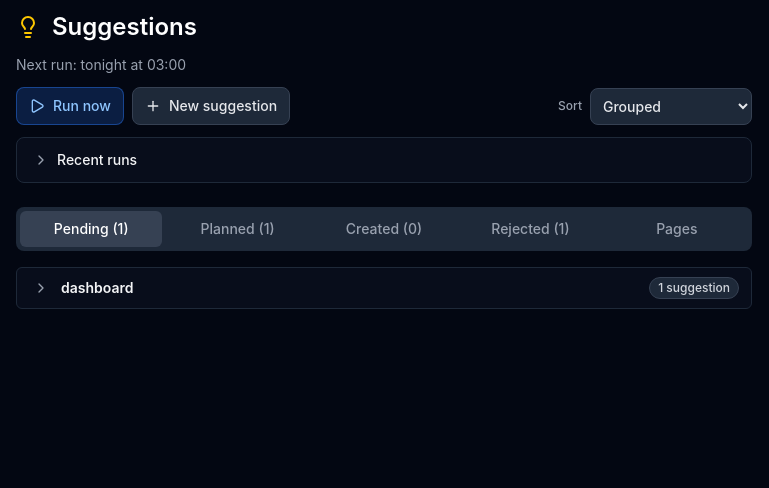
Test: Suggestions – data fetch › switching tabs swaps which cards are visible
Click the button with test id "suggestion-group-header-dashboard": click(97, 288) [16, 267, 752, 309]
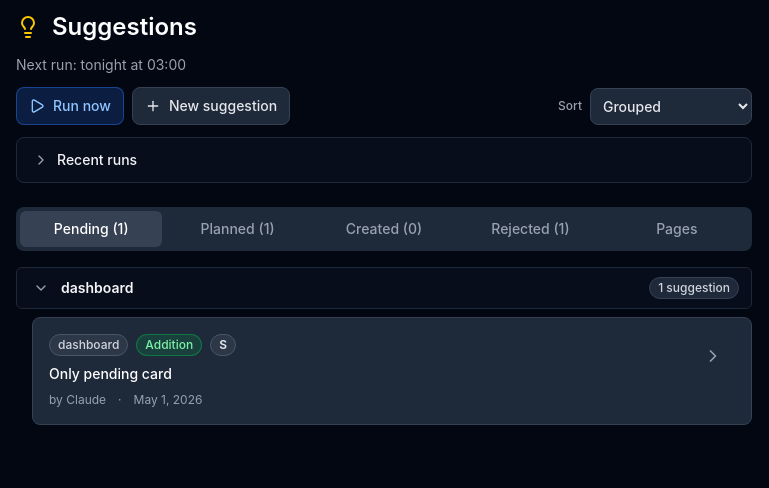
expect the text "Only planned card" is not shown: met
expect the heading "Only pending card" is shown: met, box [49, 365, 172, 382]
Click the tab "Planned (1)": click(238, 229) [166, 211, 309, 247]
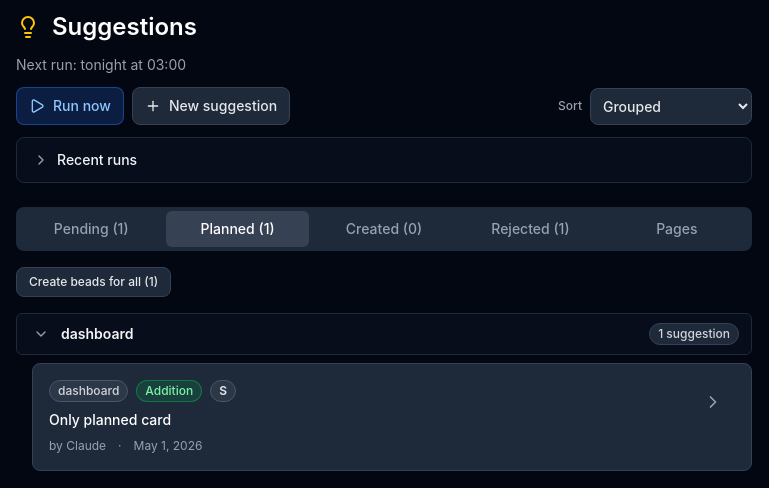
expect the text "Only rejected card" is not shown: met
expect the heading "Only planned card" is shown: met, box [49, 411, 171, 428]
expect the button "Only pending card" is gone: met
Click the tab "Rejected (1)": click(530, 229) [459, 211, 602, 247]
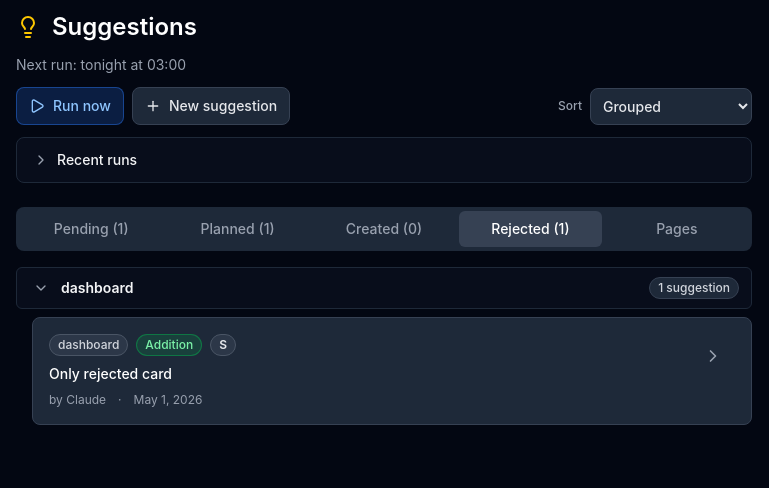
expect the button "Only pending card" is not shown: met
expect the heading "Only rejected card" is shown: met, box [49, 365, 172, 382]
expect the button "Only planned card" is gone: met
